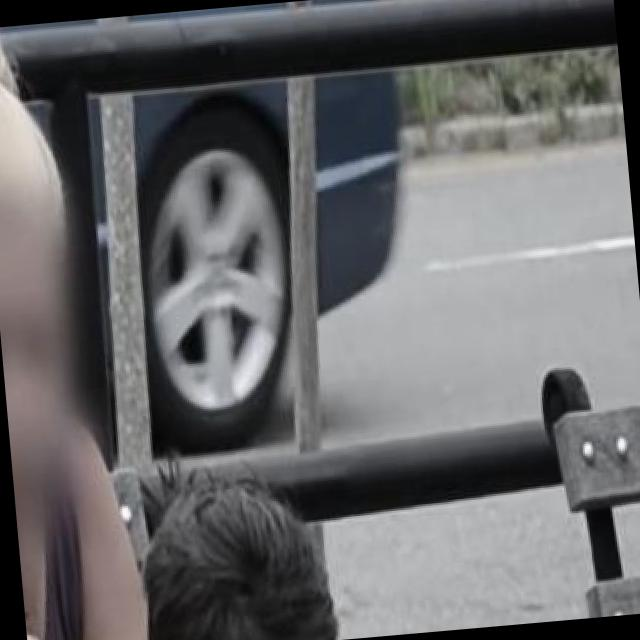Guns: (18, 533, 53, 640)
